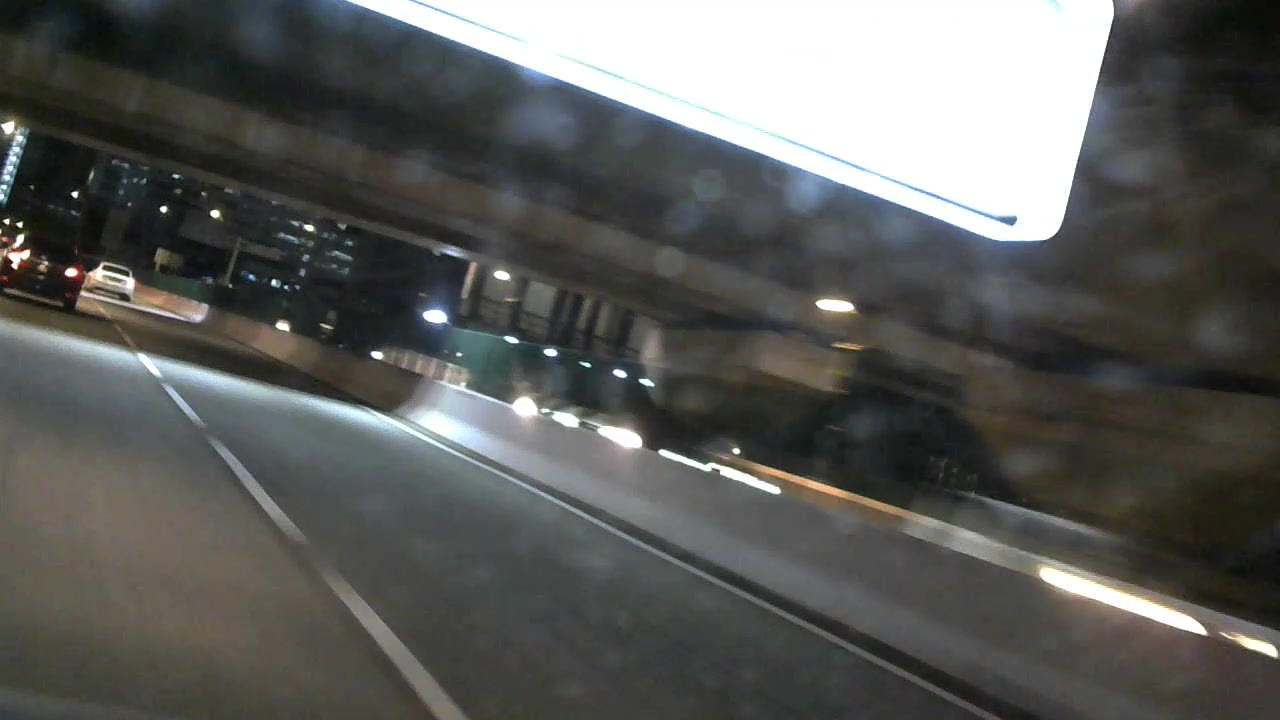Car: (1, 231, 87, 309), (87, 259, 139, 296)
